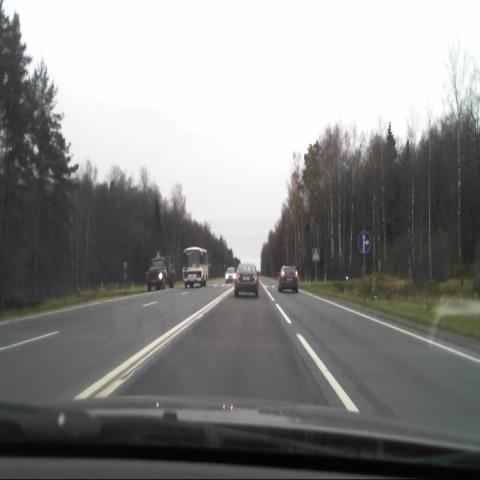4_1_4: (358, 231, 370, 253)
